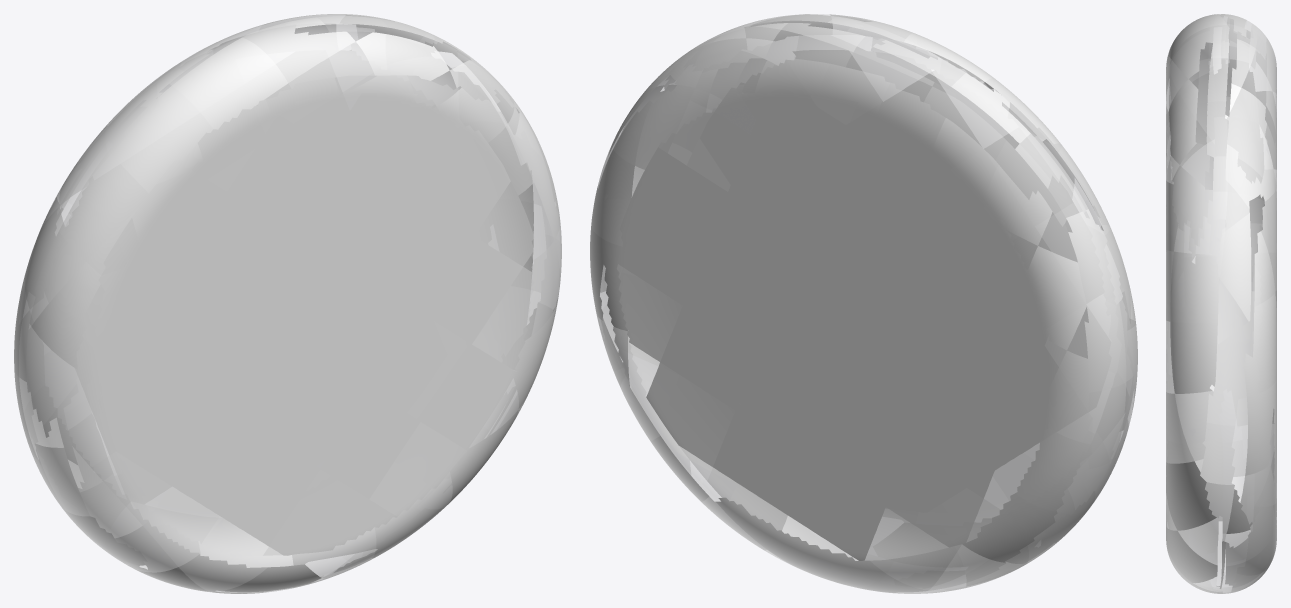
The model's file is callout-lens-transformed.glb.
3 views of the same model, side by side, from view 1: azimuth 30°, elevation 25°; view 2: azimuth 150°, elevation 25°; view 3: azimuth 270°, elevation 25° (orthographic). The views are drawn at different scales.
Visible parts, largest first — view 1: Announcement Area; view 2: Announcement Area; view 3: Announcement Area.
Boxes of the visible parts, <box> form: Announcement Area: <box>14,14,561,593</box>; Announcement Area: <box>590,14,1137,593</box>; Announcement Area: <box>1166,14,1276,593</box>.
Size of the model in its own units: 102 by 102 by 19.4.
1 material, 1 textured.
